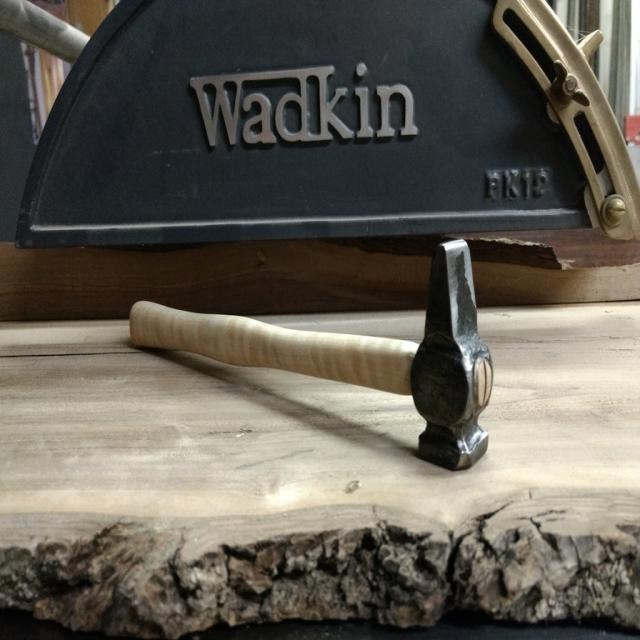hammer: (120, 230, 500, 480)
